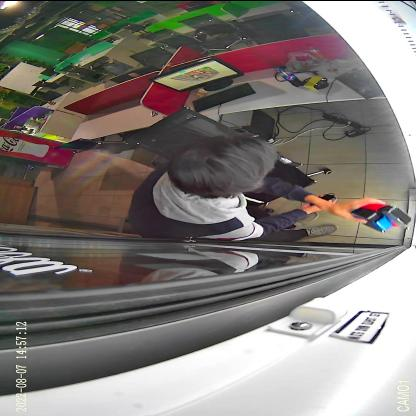blue: (350, 207, 392, 232)
red: (360, 202, 412, 228)
